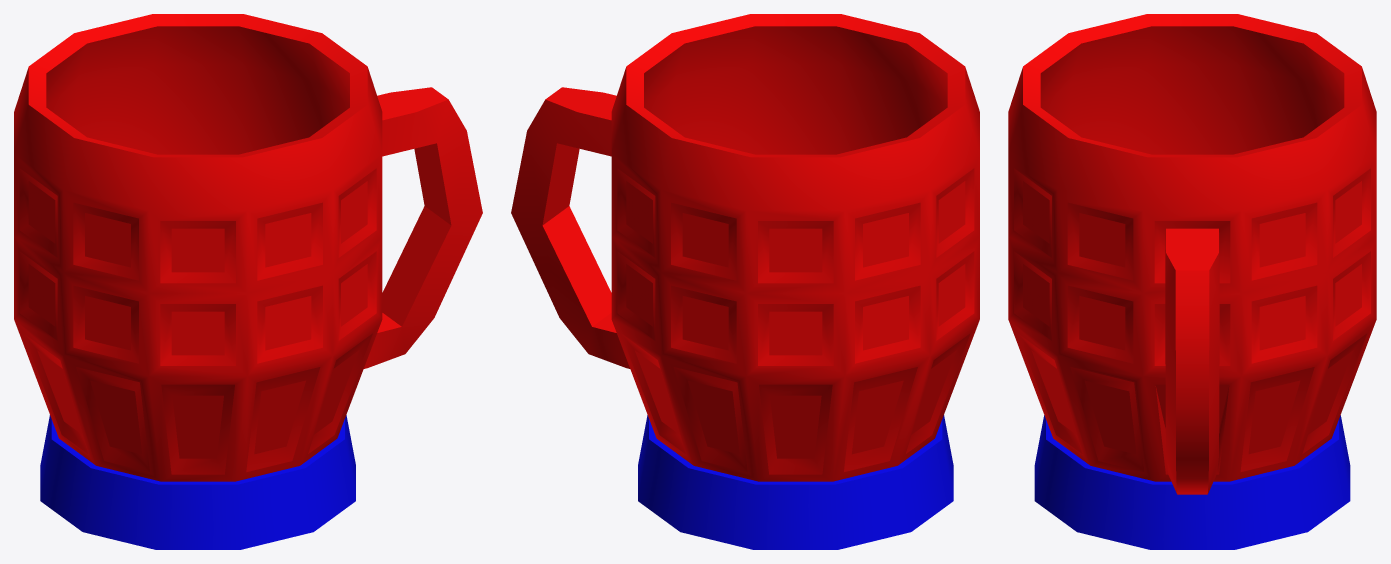
The model's file is Choppe.fbx.
3 renders of one model, left to right at view 1: azimuth 30°, elevation 25°; view 2: azimuth 150°, elevation 25°; view 3: azimuth 270°, elevation 25°, orthographic.
Visible parts, largest first — view 1: Choppe_03, Base; view 2: Choppe_03, Base; view 3: Choppe_03, Base.
Part boxes in pixels (<box>): Choppe_03: <box>14,14,482,481</box>; Base: <box>40,415,355,549</box>; Choppe_03: <box>511,14,979,481</box>; Base: <box>638,415,953,549</box>; Choppe_03: <box>1008,14,1376,494</box>; Base: <box>1034,415,1350,549</box>.
Size of the model in its own units: 132 by 96.59 by 115.
